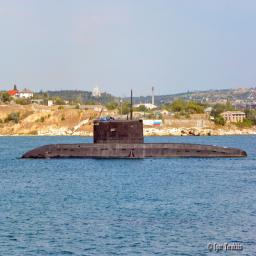submarine: (21, 120, 249, 159)
